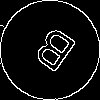B: (25, 25, 79, 82)
